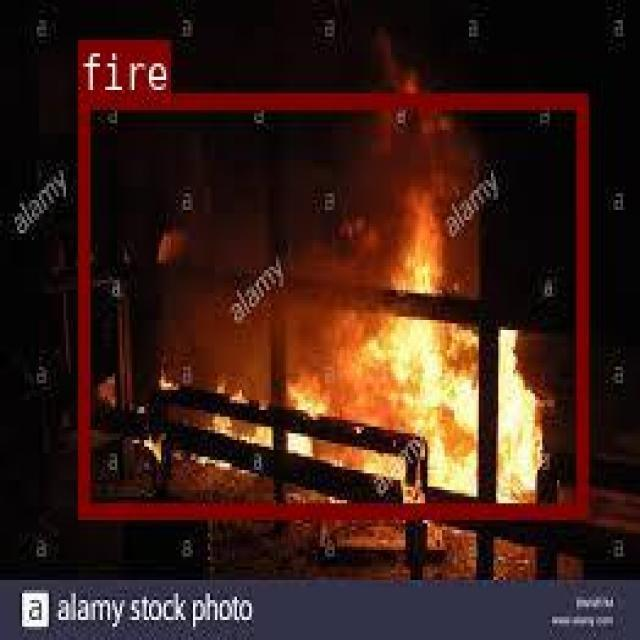fire: (78, 92, 586, 516)
